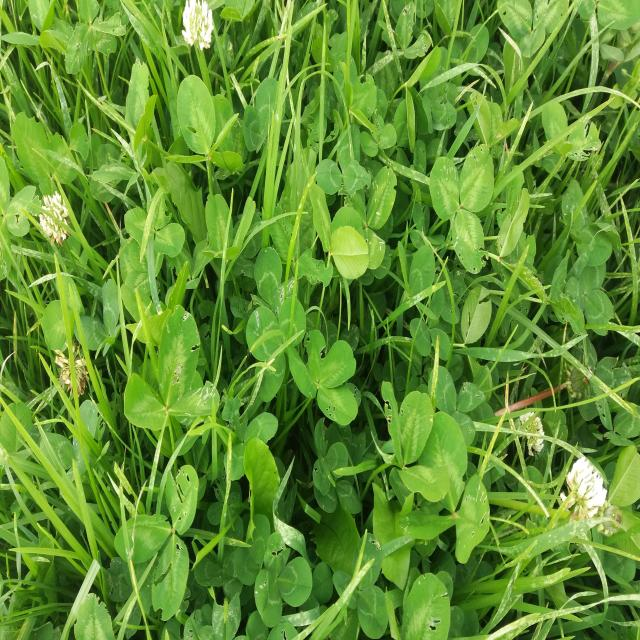Four Leaf Clover: (288, 329, 358, 425)
